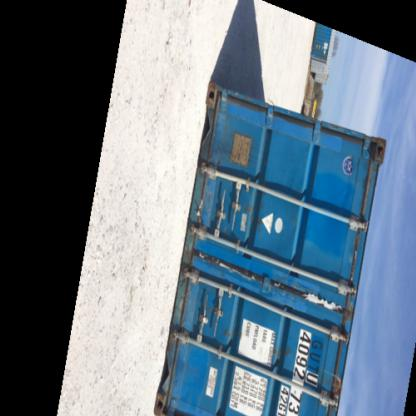Damage: (192, 170, 221, 235), (294, 286, 350, 312), (213, 260, 253, 280), (268, 277, 288, 291)
